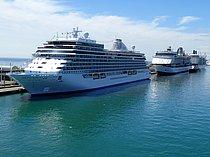Ship: (3, 25, 157, 99)
